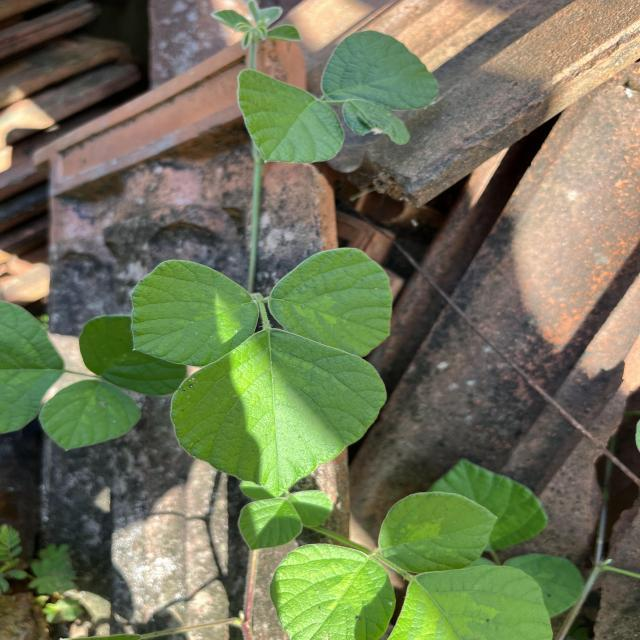Pseudarthria viscida: (126, 245, 395, 502)
